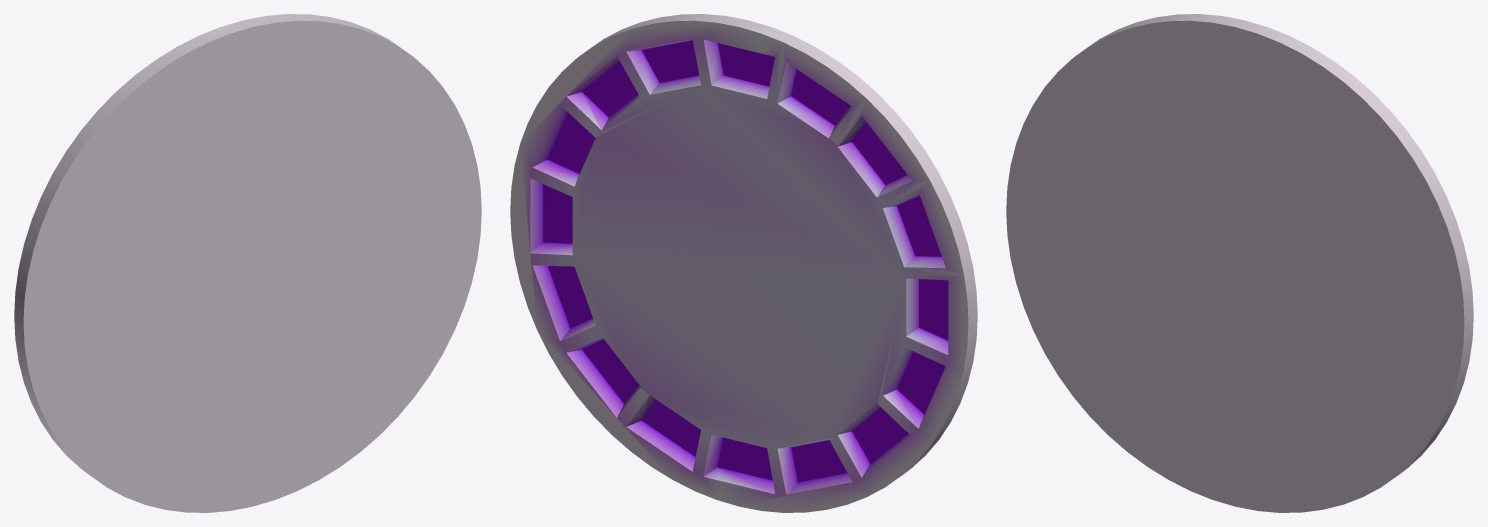
3 renders of one model, left to right at view 1: azimuth 30°, elevation 25°; view 2: azimuth 150°, elevation 25°; view 3: azimuth 330°, elevation 25°, orthographic.
Parts seen in each view (by area): view 1: disc; view 2: disc; view 3: disc.
Boxes of the visible parts, x1,y1,x2,y2 form: disc: (14,14,481,512); disc: (510,14,977,512); disc: (1006,14,1473,512).
Size of the model in its own units: 0.6 by 0.6 by 0.021.
